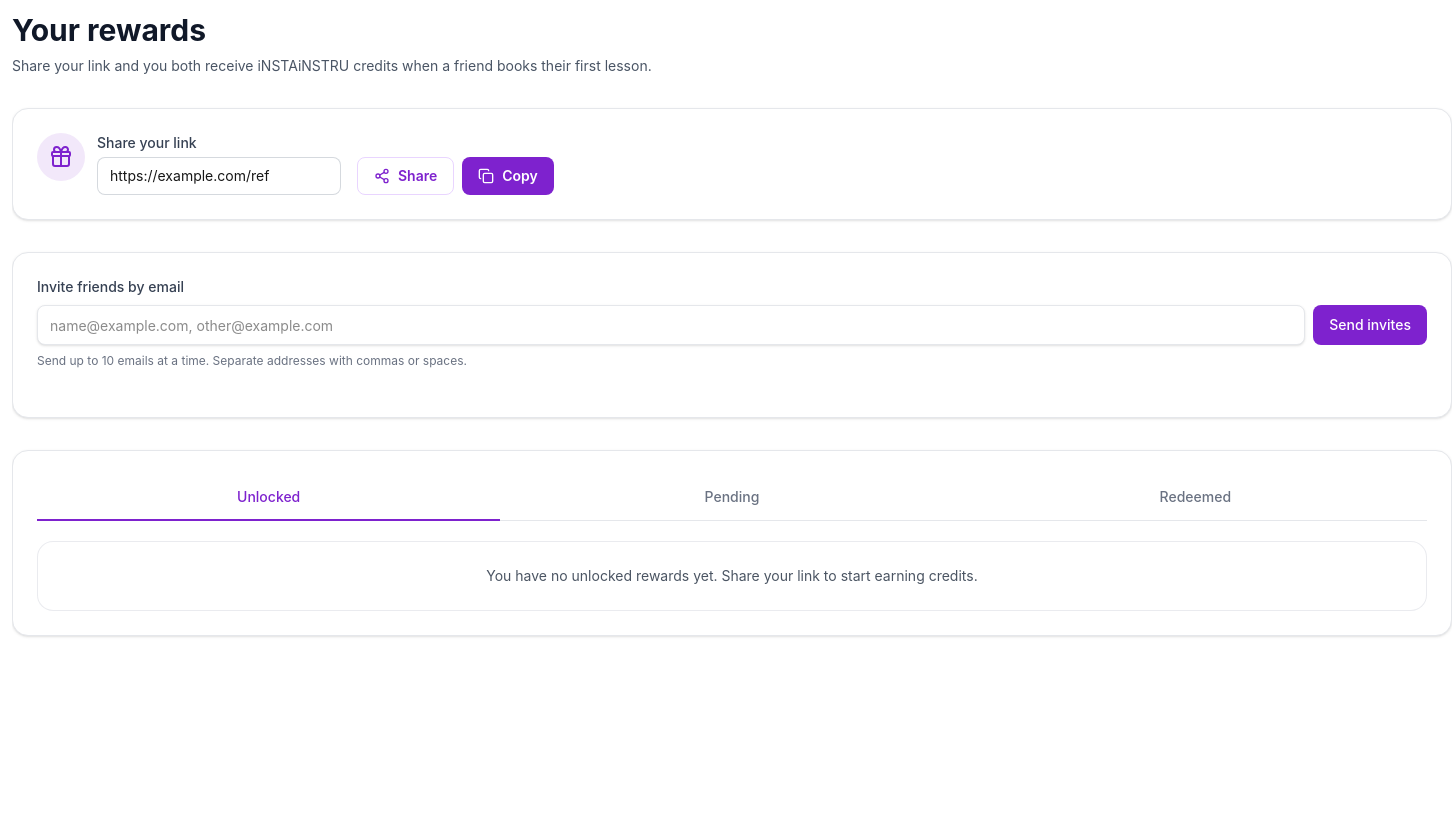
Test: RewardsPanel › renders empty copy for redeemed tab
Click the tab "Redeemed" at (1195, 498), box [964,475,1427,521]
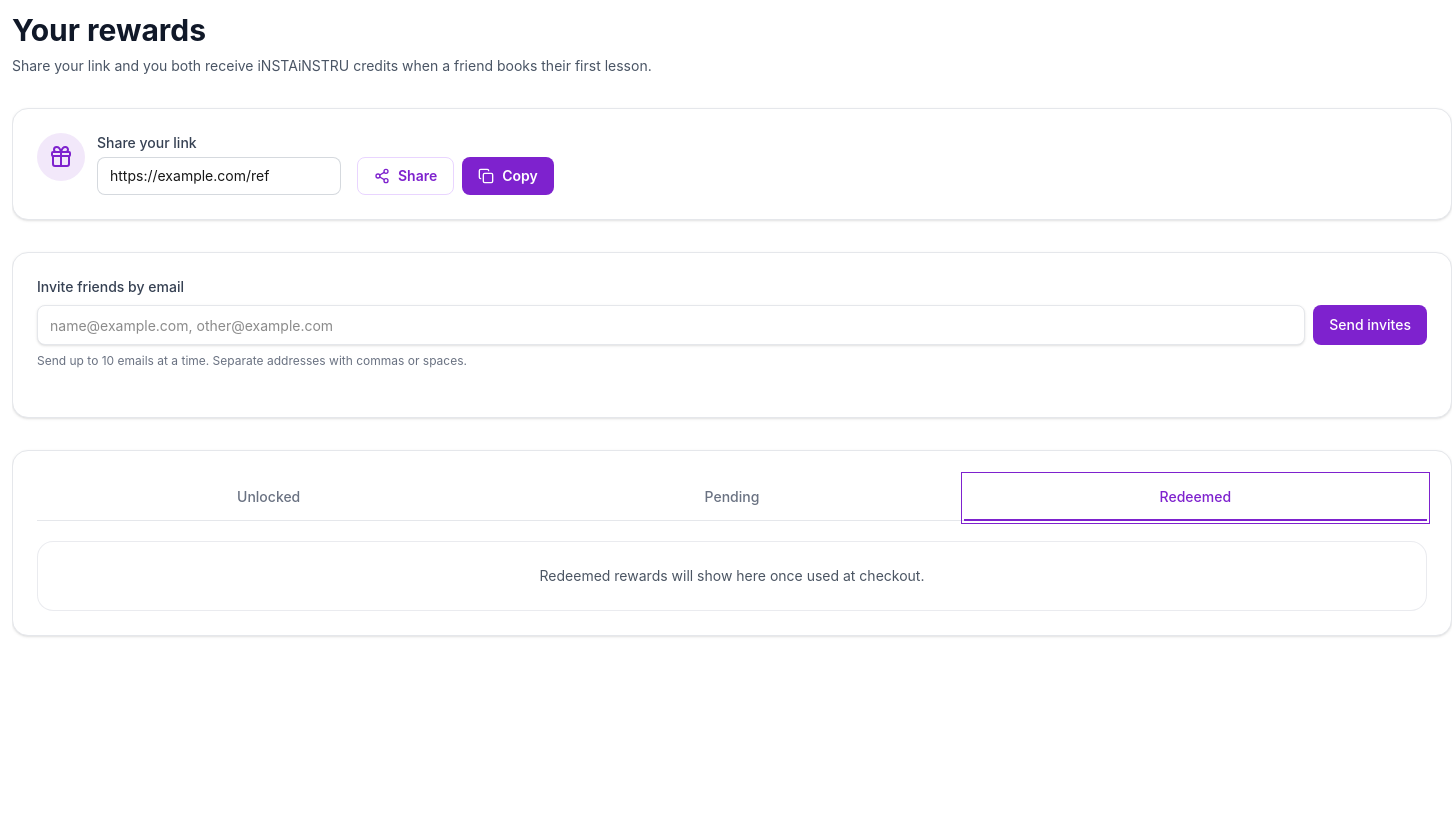
Expected: the text "Redeemed rewards will show here once used at checkout." is shown, [37,541,1427,611]
